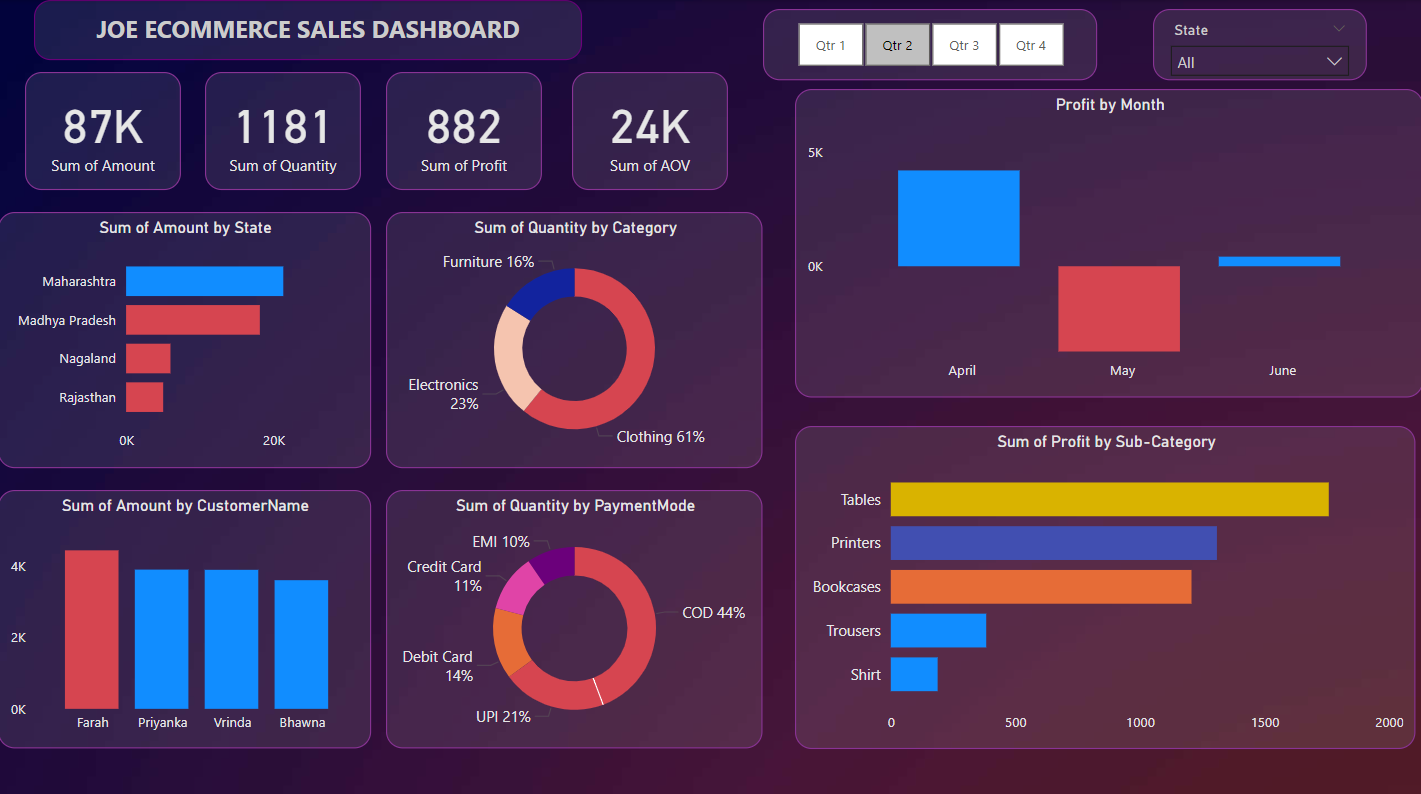

The dashboard page shown, as its layout file describes it:
{"tool":"powerbi","page":{"name":"Page 1","canvas":[1280,720],"ordinal":0},"visuals":[{"type":"textbox","box":[9.7,0,492.2,53.5],"z":0},{"type":"columnChart","title":"Profit by Month","fields":{"Category":["Orders.Order Date.Variation.Date Hierarchy.Month"],"Y":["Details.Profit"]},"box":[715.9,79.8,564.1,277.2],"z":1000},{"type":"barChart","fields":{"Category":["Details.Sub-Category"],"Y":["Details.Profit"]},"box":[715.9,382.2,557.3,289.8],"z":2000},{"type":"donutChart","fields":{"Category":["Details.Category"],"Y":["Details.Quantity"]},"box":[348.2,190.6,338.5,229.5],"z":3000},{"type":"donutChart","fields":{"Y":["Details.Quantity"],"Category":["Details.PaymentMode"]},"box":[348.2,439.6,338.5,232.5],"z":4000},{"type":"card","fields":{"Values":["Details.Amount"]},"box":[24.3,64.2,140.1,106],"z":5000},{"type":"card","fields":{"Values":["Details.Quantity"]},"box":[185.8,64.2,140.1,106],"z":6000},{"type":"card","fields":{"Values":["Details.Profit"]},"box":[348.2,64.2,140.1,106],"z":7000},{"type":"card","fields":{"Values":["Details.AOV"]},"box":[515.5,64.2,140.1,106],"z":8000},{"type":"barChart","fields":{"Category":["Orders.State"],"Y":["Details.Amount"]},"box":[0,190.6,334.6,229.5],"z":9000},{"type":"columnChart","fields":{"Category":["Orders.CustomerName"],"Y":["Details.Amount"]},"box":[0,439.6,334.6,232.5],"z":10000},{"type":"slicer","fields":{"Values":["Orders.Order Date.Variation.Date Hierarchy.Quarter"]},"box":[686.7,7.8,299.6,64.2],"z":10001},{"type":"slicer","fields":{"Values":["Orders.State"]},"box":[1036.8,7.8,191.6,64.2],"z":10002}]}

Visuals, with their boxes in screenshot pixels (x1, y1, x2, y2), scaled from the page's 1280x720 canvas onto the 1421x794 screenshot:
textbox: BBox(11, 0, 557, 59)
"Profit by Month" columnChart: BBox(795, 88, 1420, 394)
barChart - Details.Sub-Category x Details.Profit: BBox(795, 421, 1413, 741)
donutChart - Details.Category x Details.Quantity: BBox(387, 210, 762, 463)
donutChart - Details.Quantity x Details.PaymentMode: BBox(387, 485, 762, 741)
card - Details.Amount: BBox(27, 71, 183, 188)
card - Details.Quantity: BBox(206, 71, 362, 188)
card - Details.Profit: BBox(387, 71, 542, 188)
card - Details.AOV: BBox(572, 71, 728, 188)
barChart - Orders.State x Details.Amount: BBox(0, 210, 371, 463)
columnChart - Orders.CustomerName x Details.Amount: BBox(0, 485, 371, 741)
slicer - Orders.Order Date.Variation.Date Hierarchy.Quarter: BBox(762, 9, 1095, 79)
slicer - Orders.State: BBox(1151, 9, 1364, 79)
